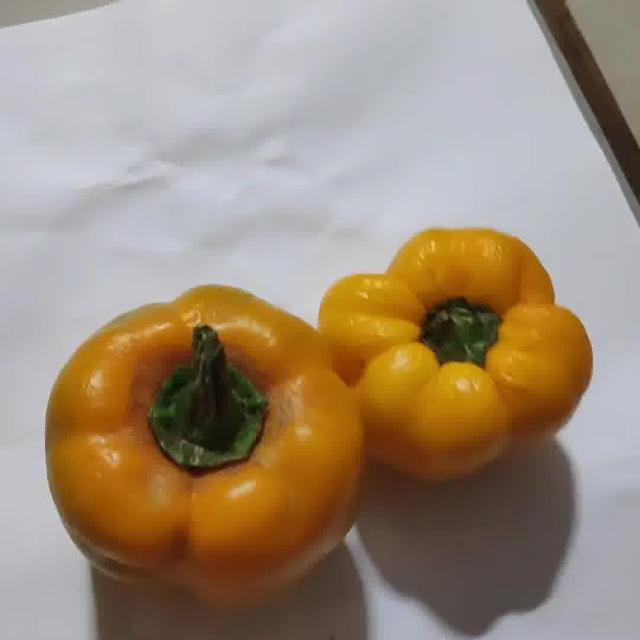Bell Pepper: (45, 286, 361, 603), (318, 229, 591, 482)
